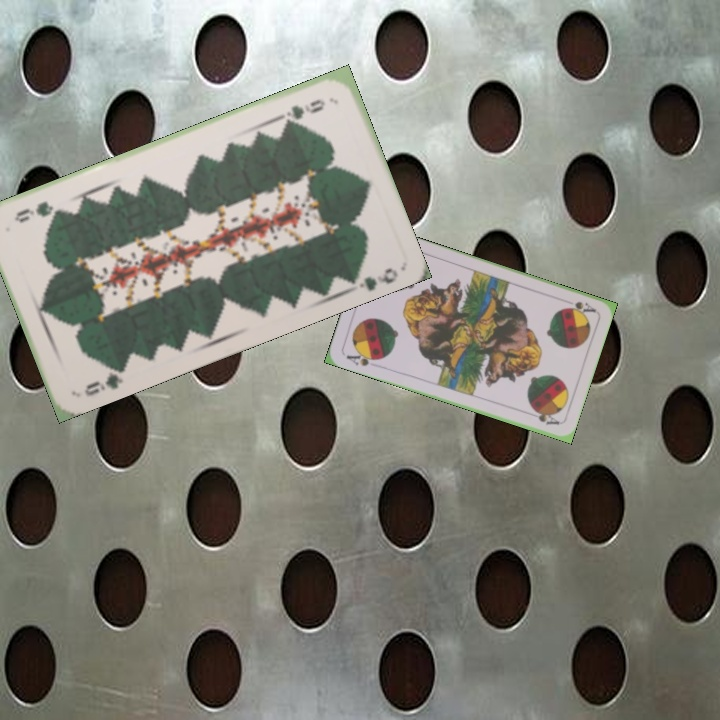G9: (80, 363, 128, 399), (277, 95, 328, 126)
SA: (342, 348, 383, 369), (561, 297, 598, 316)
